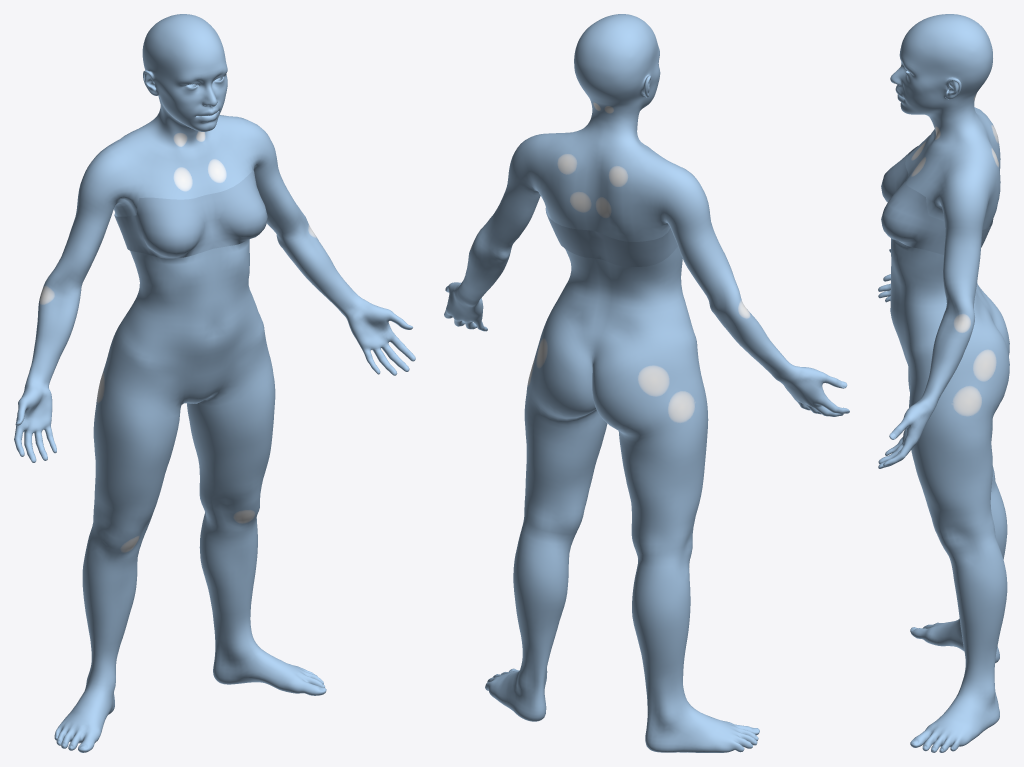
The model's file is Female Blue A-Pose Fibromyalgia.glb.
The picture shows the model from 3 angles, left to right: view 1: azimuth 30°, elevation 25°; view 2: azimuth 150°, elevation 25°; view 3: azimuth 270°, elevation 25°; orthographic projection. The views are drawn at different scales.
Parts seen in each view (by area): view 1: HG_Body, Bra; view 2: HG_Body, Bra; view 3: HG_Body, Bra.
Boxes of the visible parts, x1,y1,x2,y2 form: HG_Body: (14,14,415,752); Bra: (114,170,267,258); HG_Body: (444,14,849,752); Bra: (545,207,677,266); HG_Body: (878,14,1009,752); Bra: (881,146,993,254).
Size of the model in its own units: 0.956 by 1.59 by 0.2824.
Materials: 2 (2 with a texture image).
